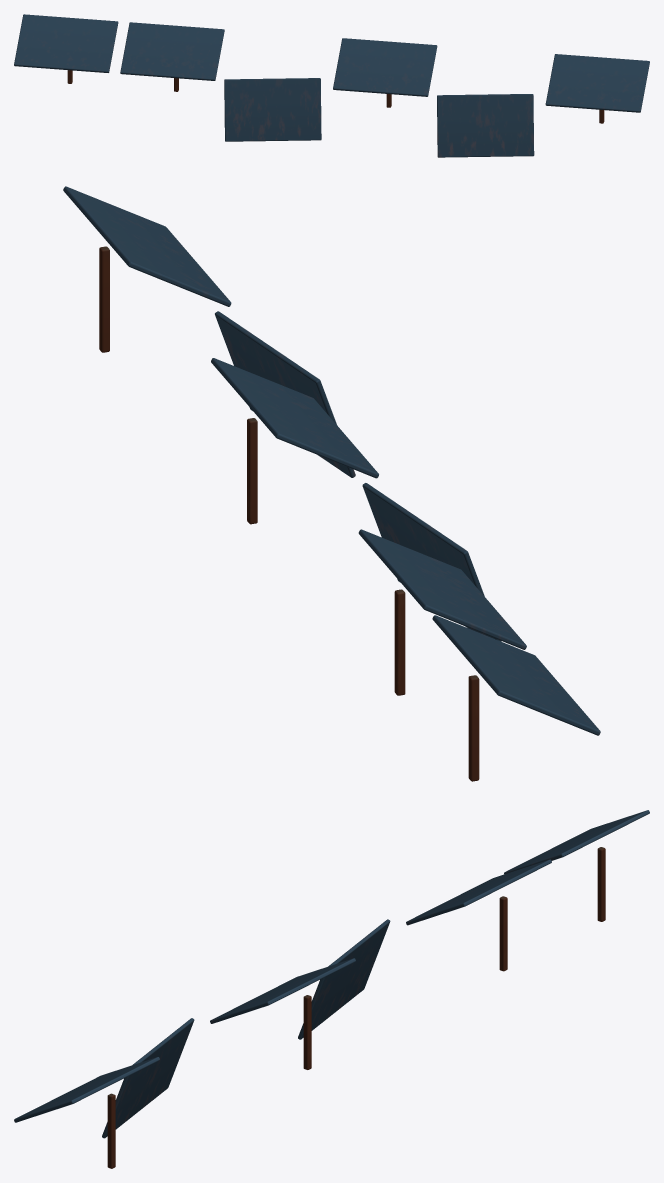
File: energia.glb
The picture shows the model from 3 angles, top to bottom: view 1: azimuth 30°, elevation 25°; view 2: azimuth 150°, elevation 25°; view 3: azimuth 270°, elevation 25°; orthographic projection. The views are drawn at different scales.
Parts seen in each view (by area): view 1: g_energia; view 2: g_energia; view 3: g_energia.
Boxes of the visible parts, <box> form: g_energia: <box>14,14,649,157</box>; g_energia: <box>63,186,600,781</box>; g_energia: <box>14,810,649,1168</box>.
Bounding box in the file's own units: 9.19 × 1.51 × 7.93.
Materials: 1 (1 with a texture image).
